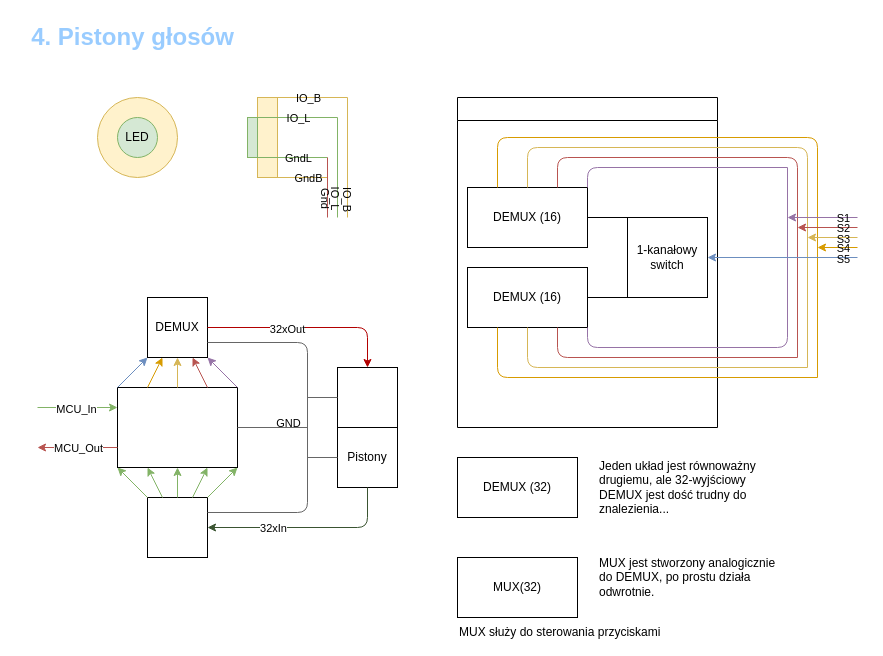
The diagram is 883 pixels wide and 656 high, and some of its shapes have lost their labels. Each missing label, with the box of its shape:
Demultiplekser do sterowania 32 diodami: (456, 96, 718, 428)
LEDs: (336, 366, 398, 428)
MCU (16 pins): (116, 386, 238, 468)
MUX: (146, 496, 208, 558)
